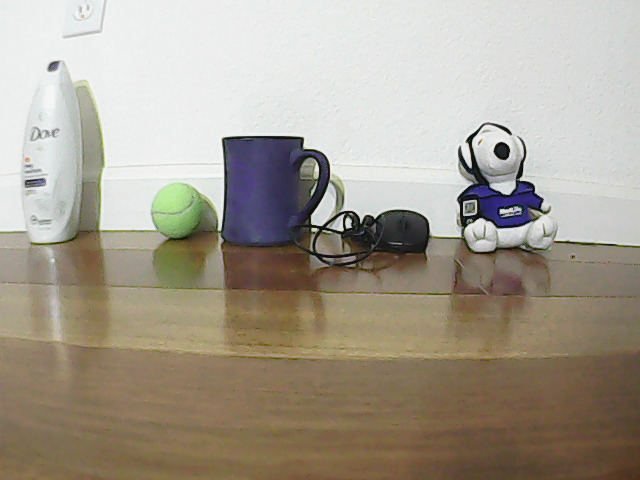ball: (143, 177, 205, 238)
mouse: (363, 203, 435, 256)
mug: (222, 129, 325, 247)
snoopy: (444, 111, 564, 247)
soap: (29, 43, 81, 248)
